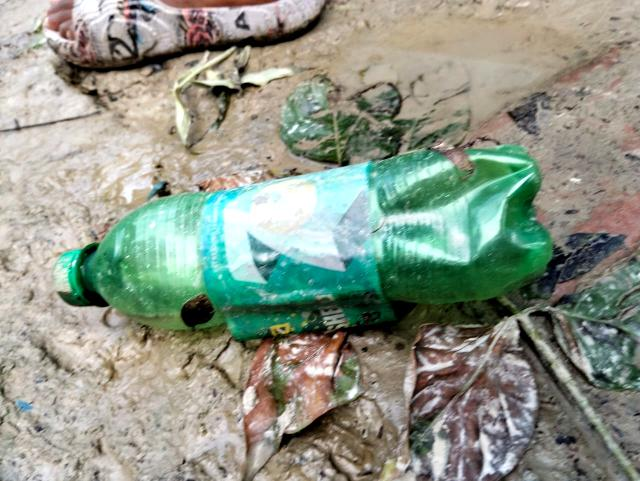bottle: (50, 137, 556, 346)
